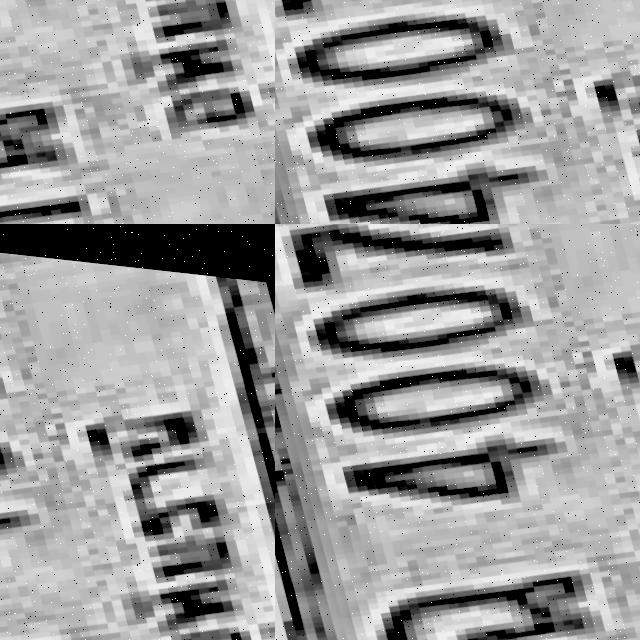license-plate: (275, 224, 640, 640), (275, 0, 640, 224), (0, 0, 275, 224)
